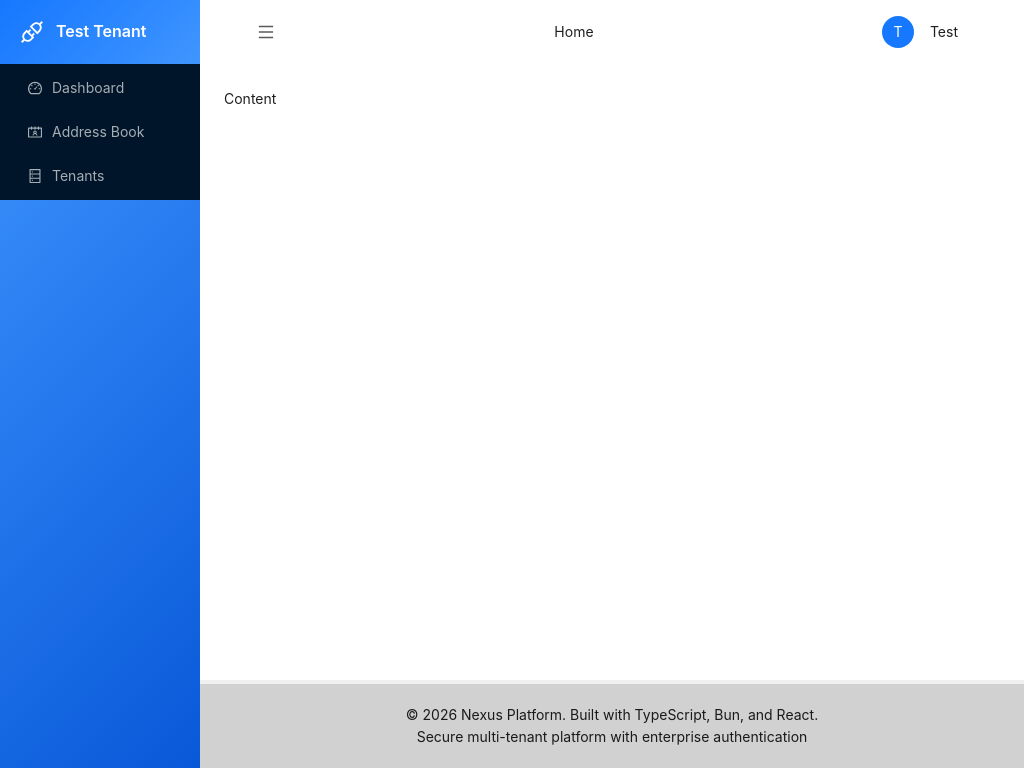
Test: Layout Component › User Menu and Profile › should have logout option accessible
Click the profile dropdown trigger to open the menu
What coordinates should you click on to do the following:
click the text "Test"
I would click on:
 (944, 32)
Its box is [930,23,958,40].
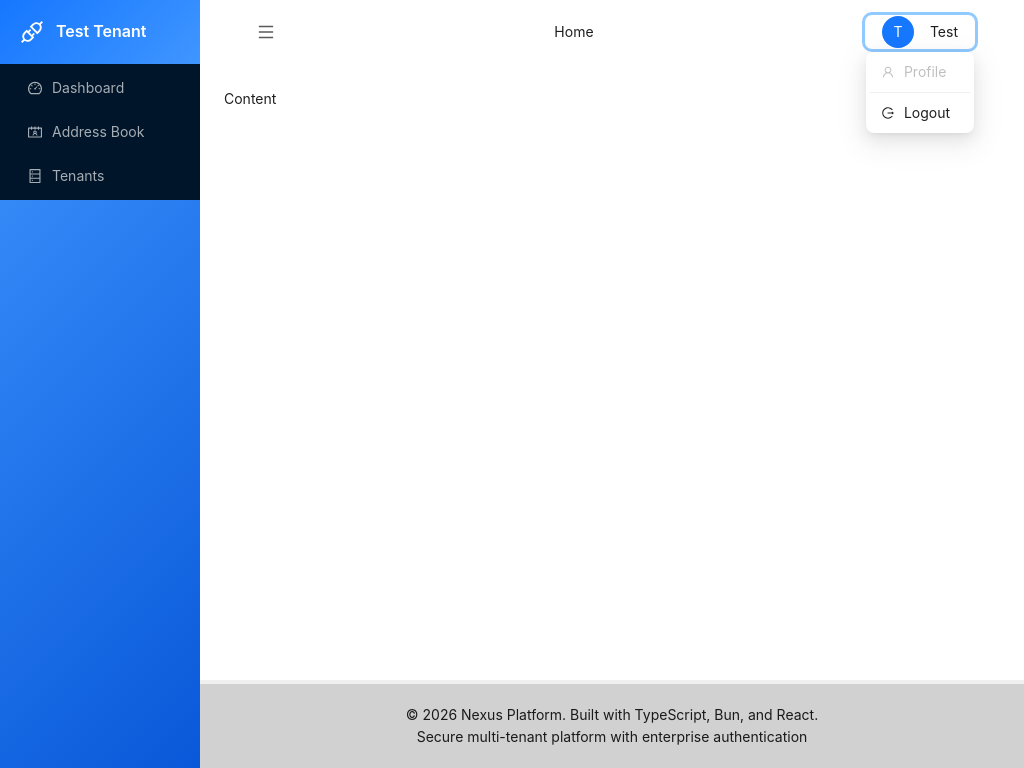
Expected: the text "Logout" is shown, [904,102,958,124]
